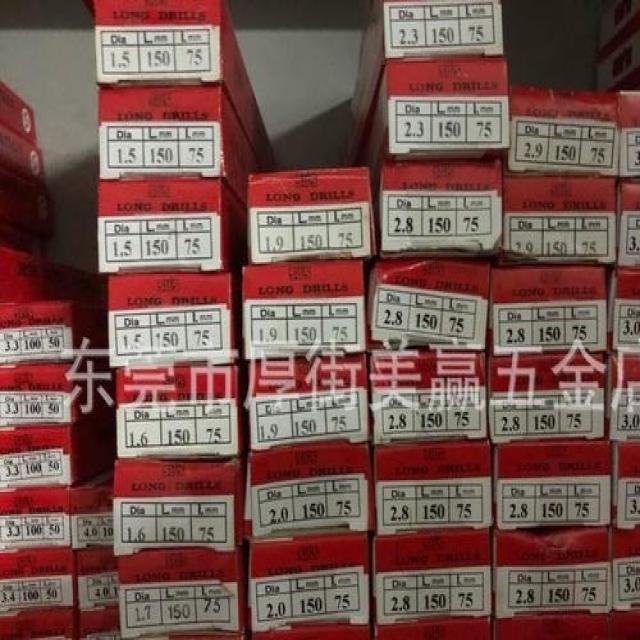box: (93, 0, 276, 170), (349, 0, 504, 151), (96, 83, 262, 206), (357, 54, 509, 170), (97, 177, 248, 276), (114, 451, 247, 557), (369, 157, 503, 259), (106, 271, 243, 368), (241, 259, 366, 363), (364, 254, 494, 354), (116, 363, 250, 460), (244, 441, 375, 540), (247, 165, 375, 266), (244, 351, 371, 451), (244, 534, 372, 633), (371, 526, 493, 623), (371, 439, 495, 534), (490, 526, 613, 618), (115, 551, 244, 638), (366, 351, 490, 441), (489, 439, 612, 529), (498, 175, 618, 266), (489, 351, 607, 441), (489, 266, 609, 354), (502, 85, 618, 175), (0, 412, 119, 489), (0, 363, 116, 426), (0, 300, 109, 364), (0, 245, 106, 310), (77, 608, 243, 640), (0, 165, 55, 259), (0, 548, 77, 608), (69, 468, 114, 548), (0, 123, 49, 192), (490, 611, 613, 638), (605, 351, 640, 441), (372, 616, 492, 640), (72, 548, 119, 608), (607, 267, 639, 352), (0, 80, 38, 148), (611, 439, 640, 528), (0, 608, 78, 640), (613, 528, 640, 611), (242, 621, 372, 638), (617, 175, 640, 271), (618, 92, 639, 179), (612, 609, 640, 638)
